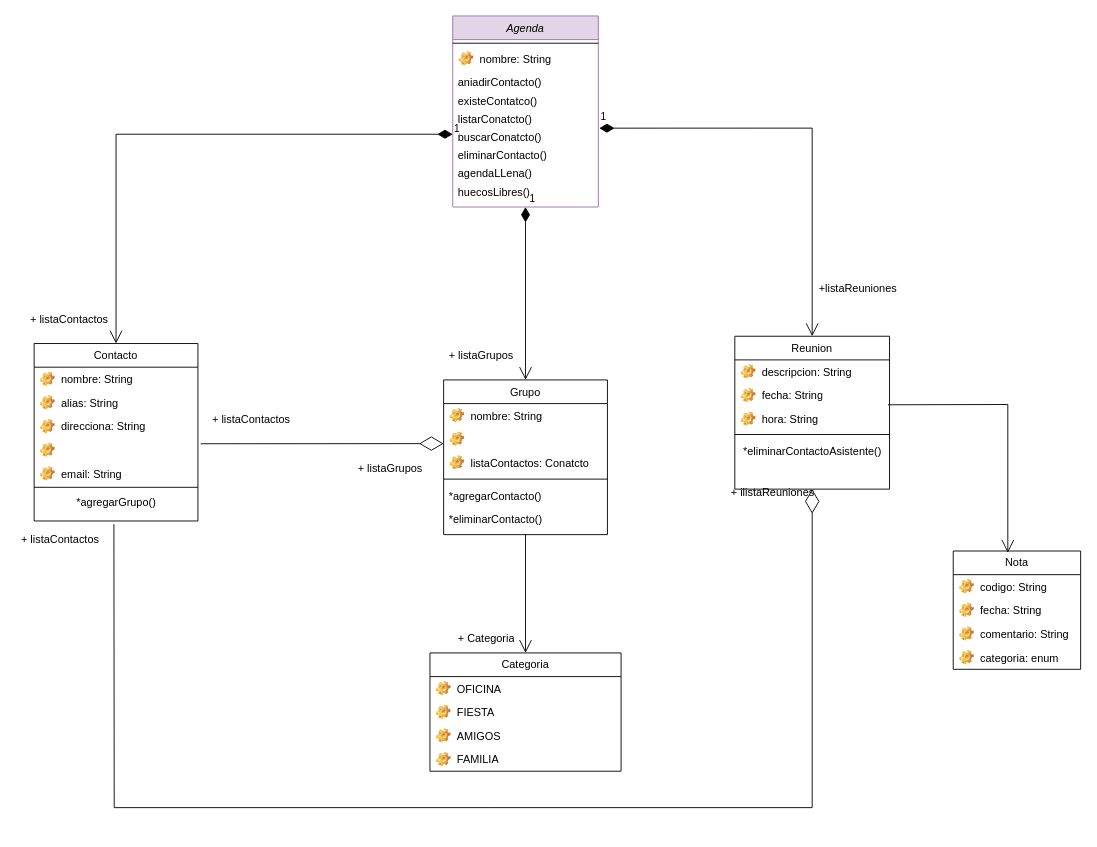
This 1097x847 diagram has some shape labels left out. The centre of each missing label's shape, as x and y in pixels:
"categoria: Categoria" goes at [525,438].
"telefono: String" goes at [115,449].
